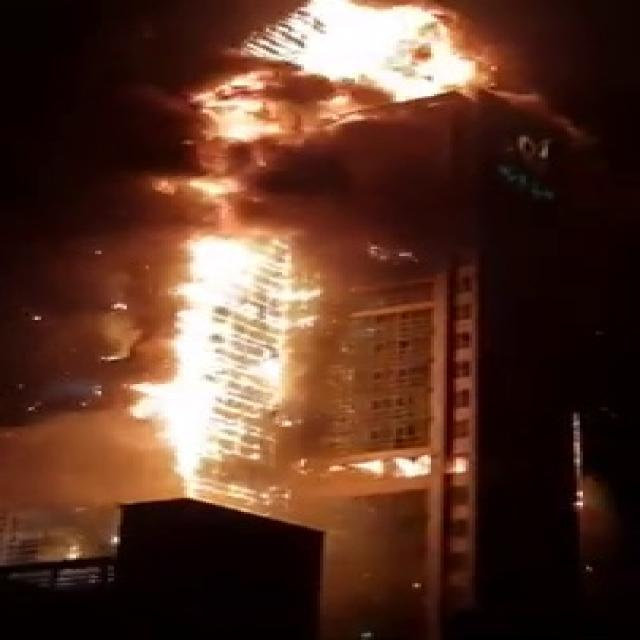Fire: (184, 238, 291, 458), (285, 0, 481, 87)
